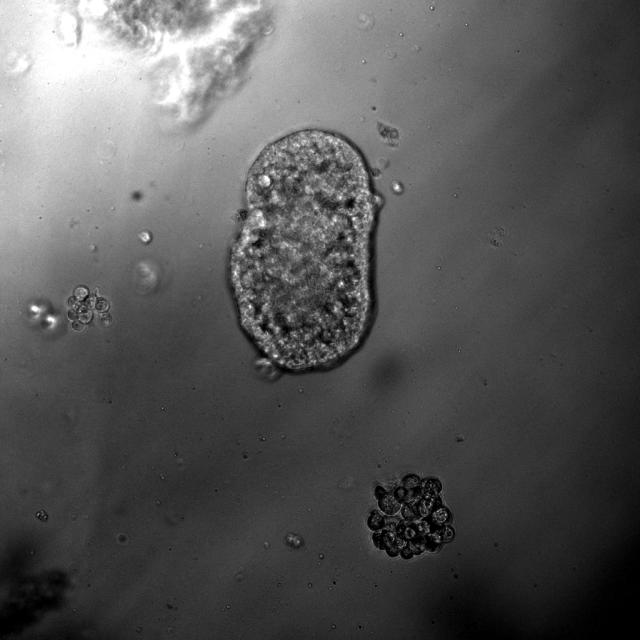organoid: (228, 130, 382, 379), (55, 0, 272, 134), (366, 473, 454, 560), (67, 285, 112, 331)
